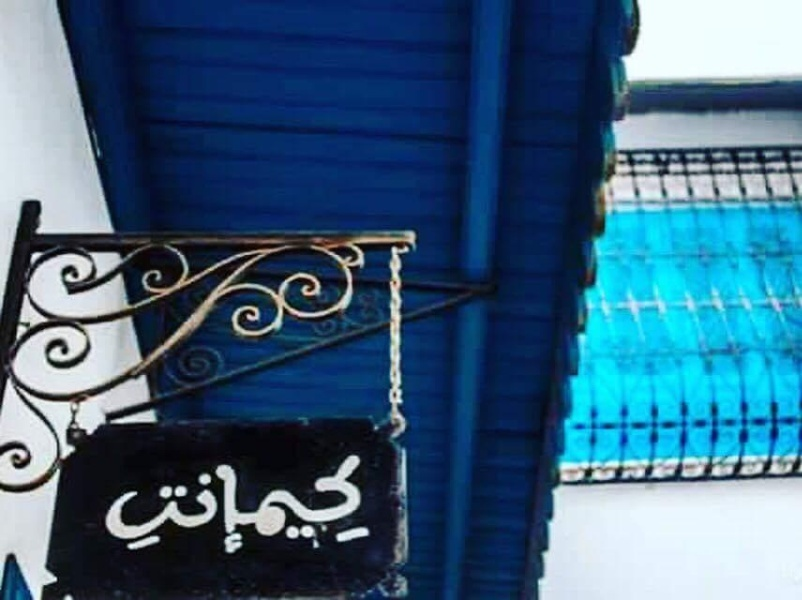text: (113, 451, 128, 559), (129, 451, 144, 559), (145, 451, 160, 559), (161, 451, 176, 559), (177, 451, 192, 559), (193, 451, 208, 559), (209, 451, 224, 559), (225, 451, 240, 559), (241, 451, 256, 559), (257, 451, 272, 559), (273, 451, 288, 559), (289, 451, 304, 559), (305, 451, 320, 559), (321, 451, 336, 559), (337, 451, 352, 559), (353, 451, 368, 559), (100, 451, 112, 559), (369, 451, 372, 559)
